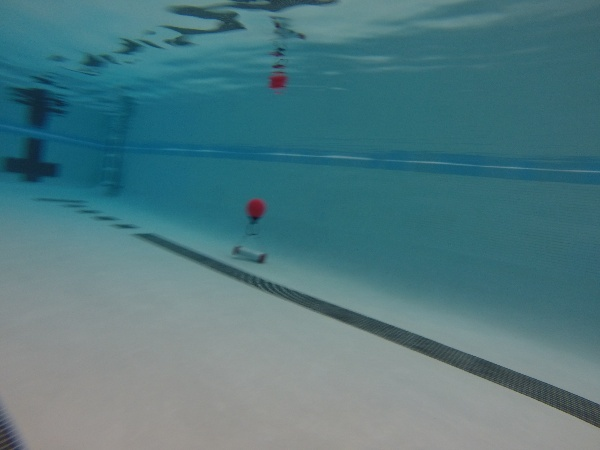buoy_red: (243, 196, 268, 227)
